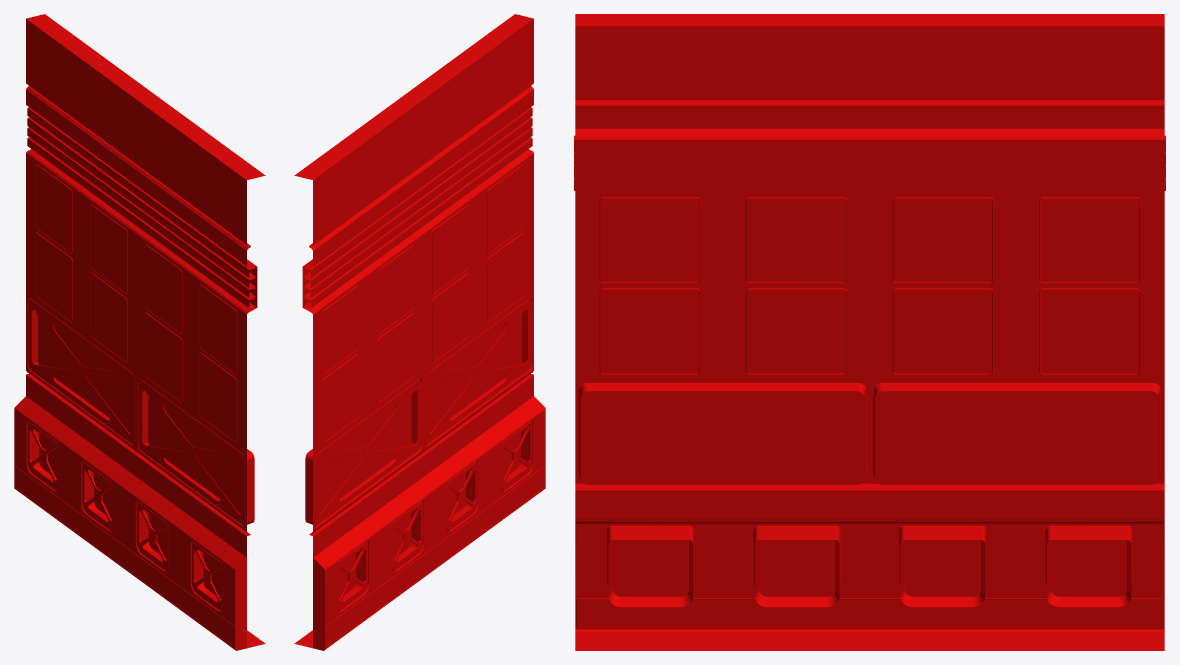
File: Wall_18.fbx
3 views of the same model, side by side, from view 1: azimuth 30°, elevation 25°; view 2: azimuth 150°, elevation 25°; view 3: azimuth 270°, elevation 25° (orthographic). The views are drawn at different scales.
Parts seen in each view (by area): view 1: polySurface3; view 2: polySurface3; view 3: polySurface3.
Part boxes in pixels (<box>): polySurface3: <box>14,14,265,650</box>; polySurface3: <box>294,14,545,650</box>; polySurface3: <box>574,14,1165,650</box>.
Bounding box in the file's own units: 51.55 × 751 × 645.
